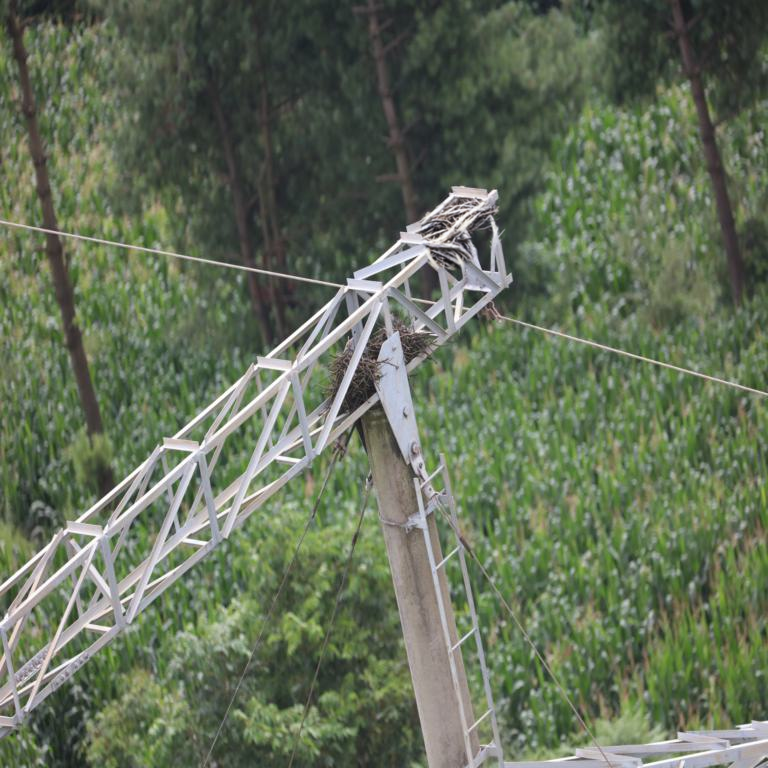nest: (330, 323, 428, 414), (423, 203, 486, 262)
